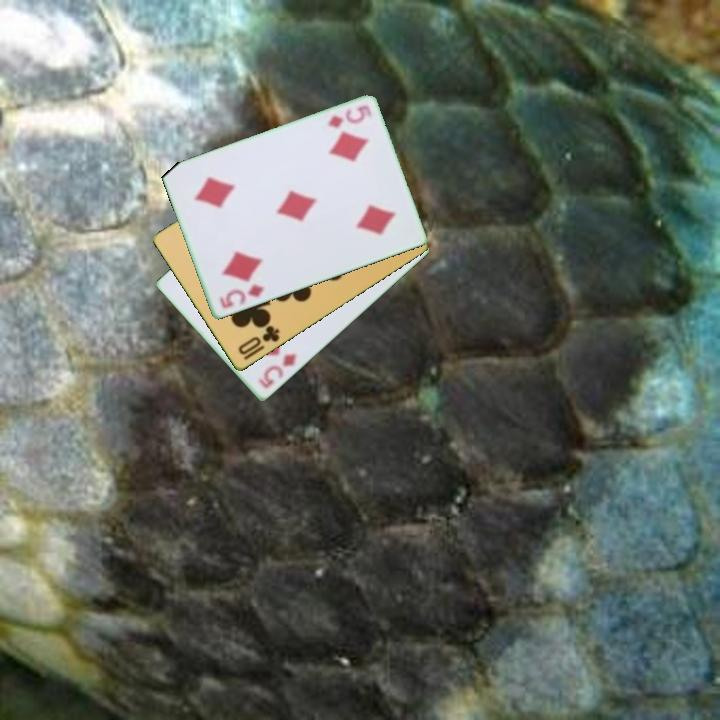10c: (234, 322, 282, 358)
5d: (254, 350, 300, 392), (216, 281, 266, 312), (324, 102, 374, 132)
